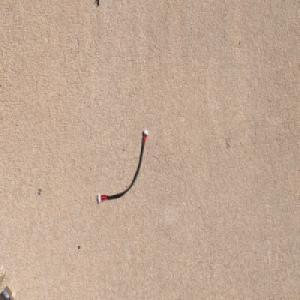Wire: (97, 128, 148, 205)
